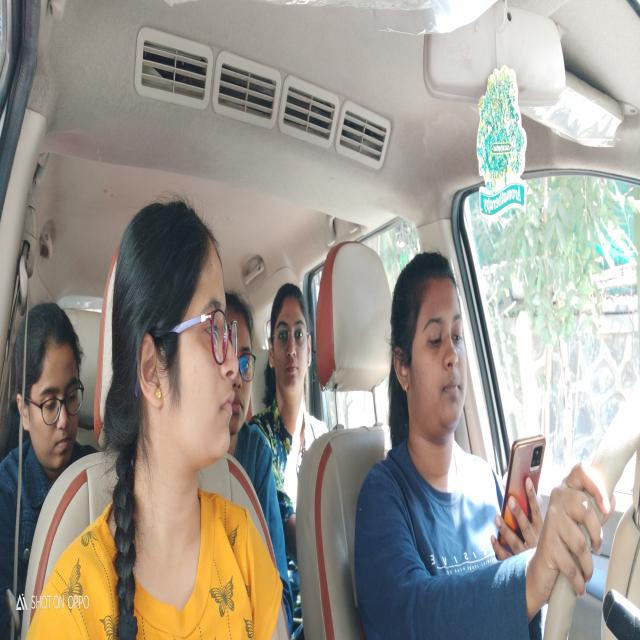mobile: (494, 422, 549, 562)
person: (109, 191, 240, 491), (388, 247, 469, 468), (14, 297, 87, 482), (268, 278, 315, 426), (231, 290, 259, 447)
